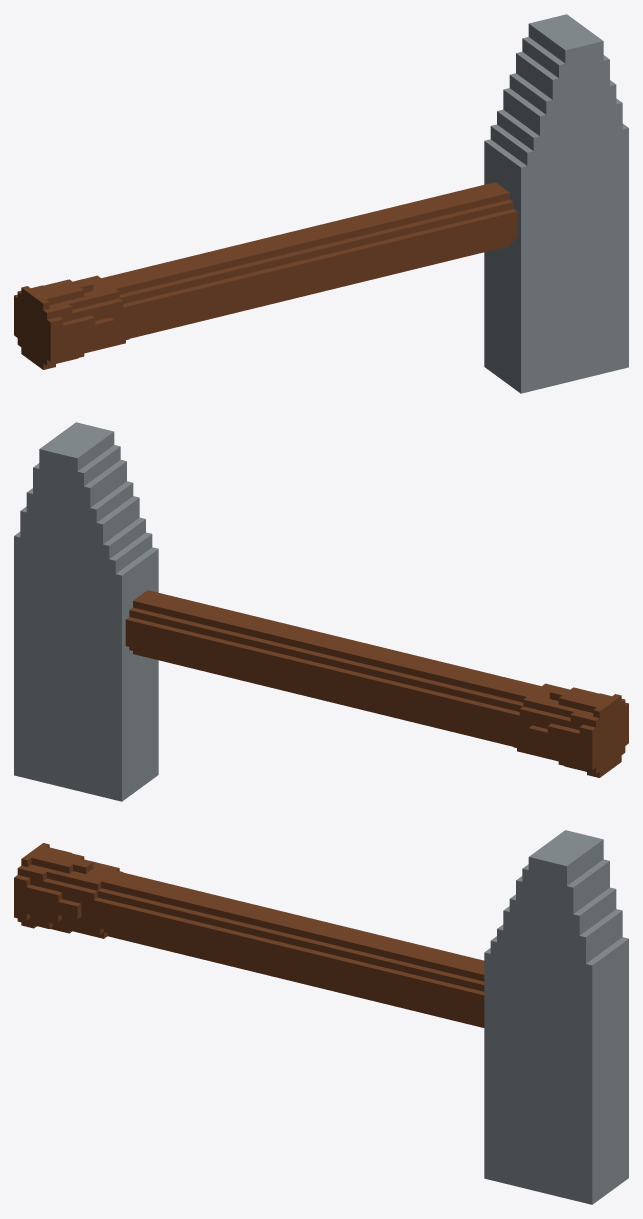
File: hammer.glb
The picture shows the model from 3 angles, top to bottom: view 1: azimuth 30°, elevation 25°; view 2: azimuth 150°, elevation 25°; view 3: azimuth 330°, elevation 25°; orthographic projection.
Parts seen in each view (by area): view 1: hammer:hammer; view 2: hammer:hammer; view 3: hammer:hammer.
Part boxes in pixels (<box>): hammer:hammer: <box>14,14,628,393</box>; hammer:hammer: <box>14,422,628,801</box>; hammer:hammer: <box>14,830,628,1204</box>.
Bounding box in the file's own units: 0.364 × 0.2 × 0.04.
